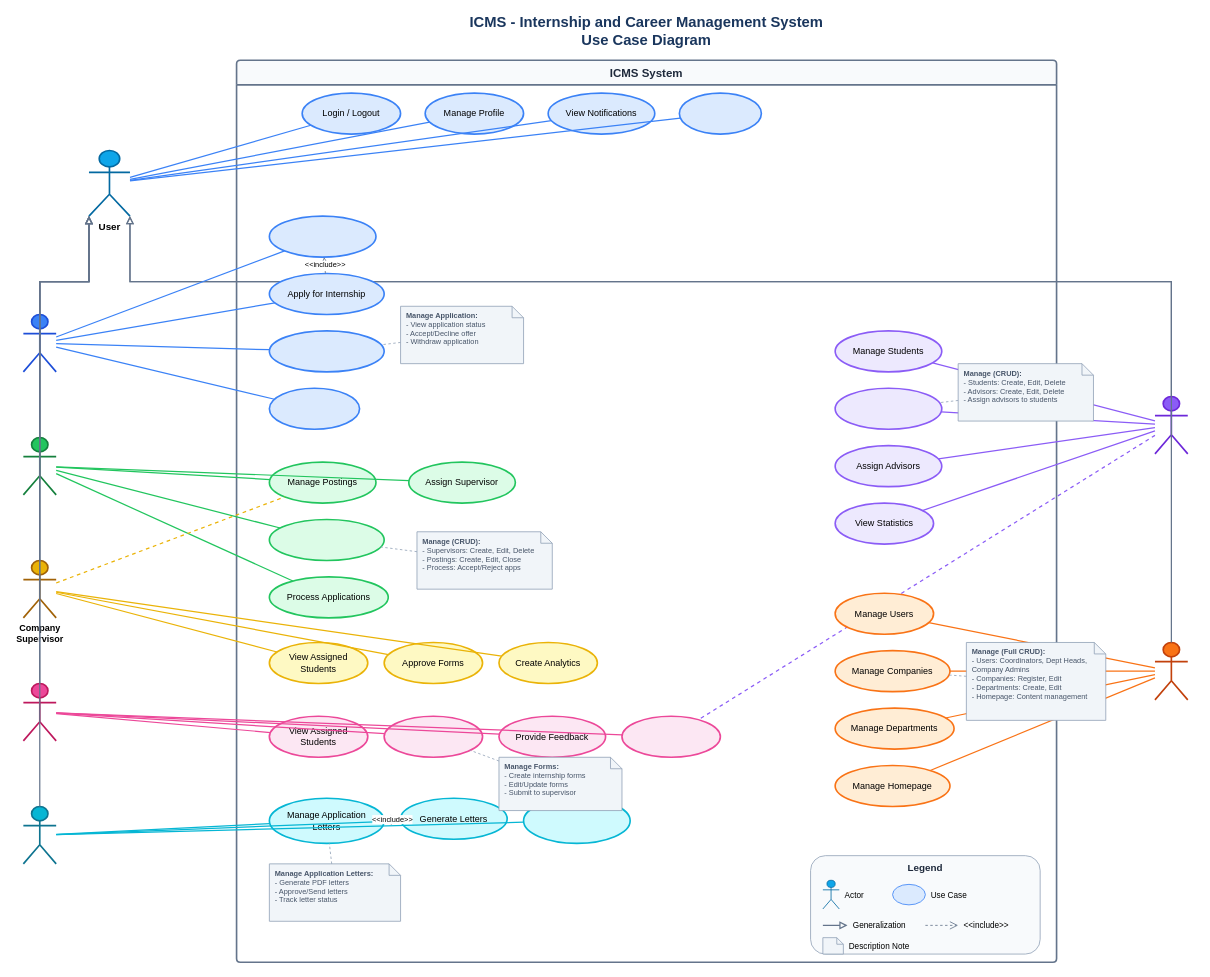
This 1210x977 diagram has some shape labels left out. Each missing label, with the box of its shape:
Browse Postings: (268, 215, 376, 257)
Chat: (678, 92, 762, 134)
Company Admin: (22, 436, 57, 495)
Coordinator: (22, 805, 57, 864)
Department Head: (1154, 395, 1188, 454)
Faculty Advisor: (22, 682, 57, 741)
Manage Advisors: (834, 387, 942, 430)
Manage Application: (268, 330, 385, 372)
Manage Forms: (383, 715, 483, 758)
Manage Supervisors: (268, 518, 385, 561)
Student: (22, 313, 57, 372)
System Admin: (1154, 641, 1188, 700)
View Analytics: (621, 715, 721, 758)
View Department Students: (522, 797, 631, 844)
View Forms: (268, 387, 360, 430)
